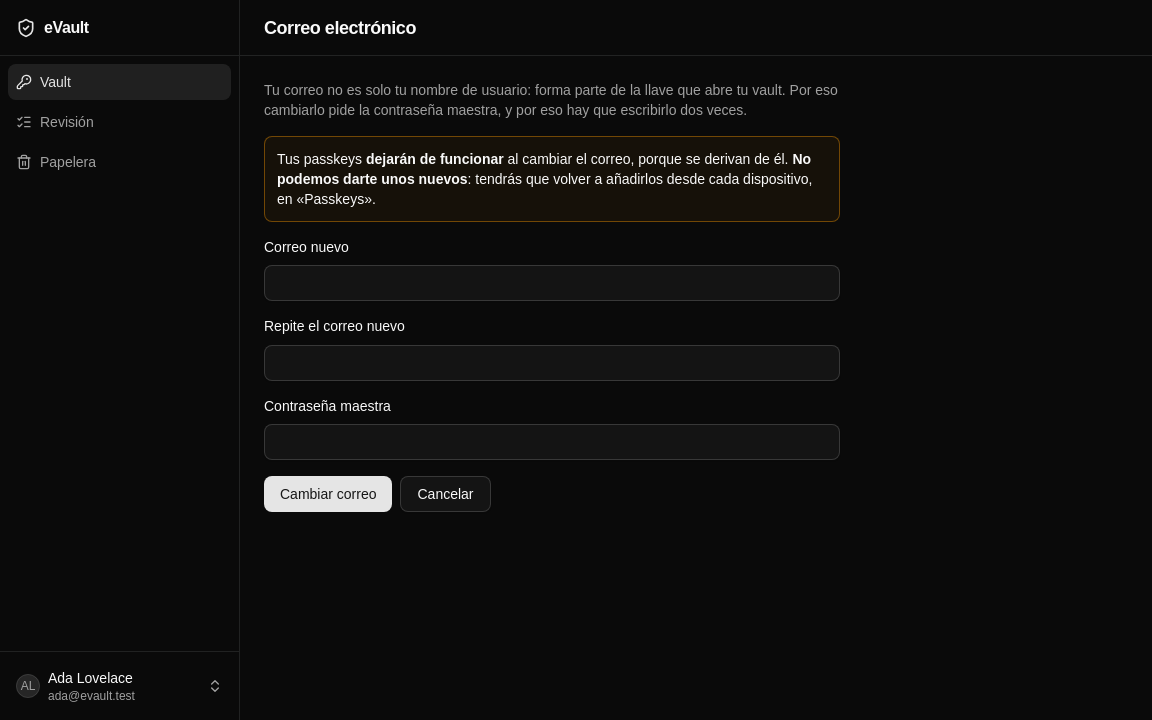
Test: changing the email › demands the master password
The width and height of the screenshot is (1152, 720).
In the field labelled "Correo nuevo": (552, 283) x1=264 y1=265 x2=840 y2=301, type "ada.lovelace@evault.test"
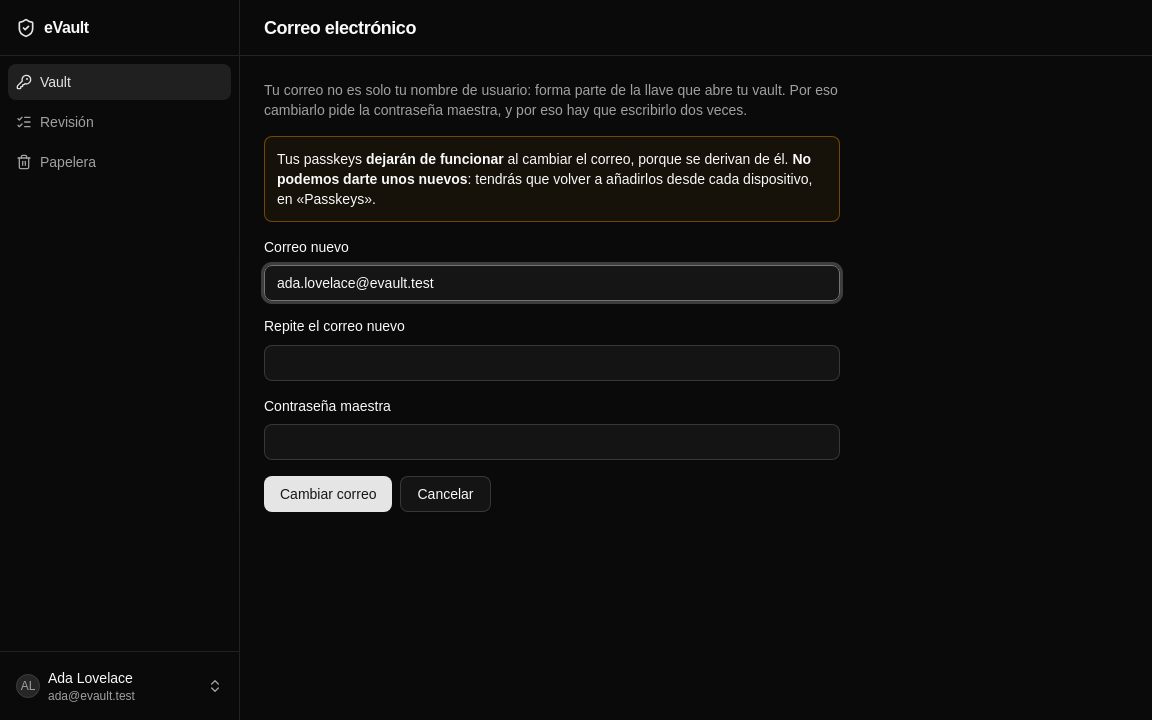
In the field labelled "Repite el correo nuevo": (552, 362) x1=264 y1=344 x2=840 y2=380, type "ada.lovelace@evault.test"
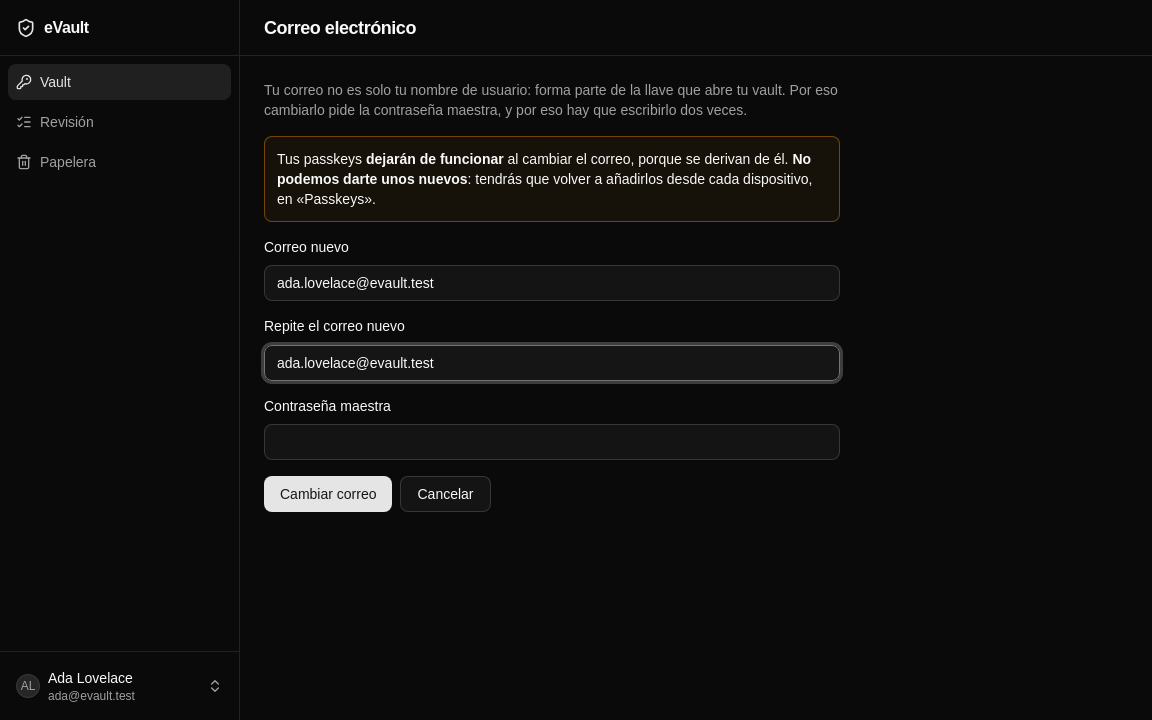
Click the button "Cambiar correo": (328, 494) x1=264 y1=476 x2=392 y2=512
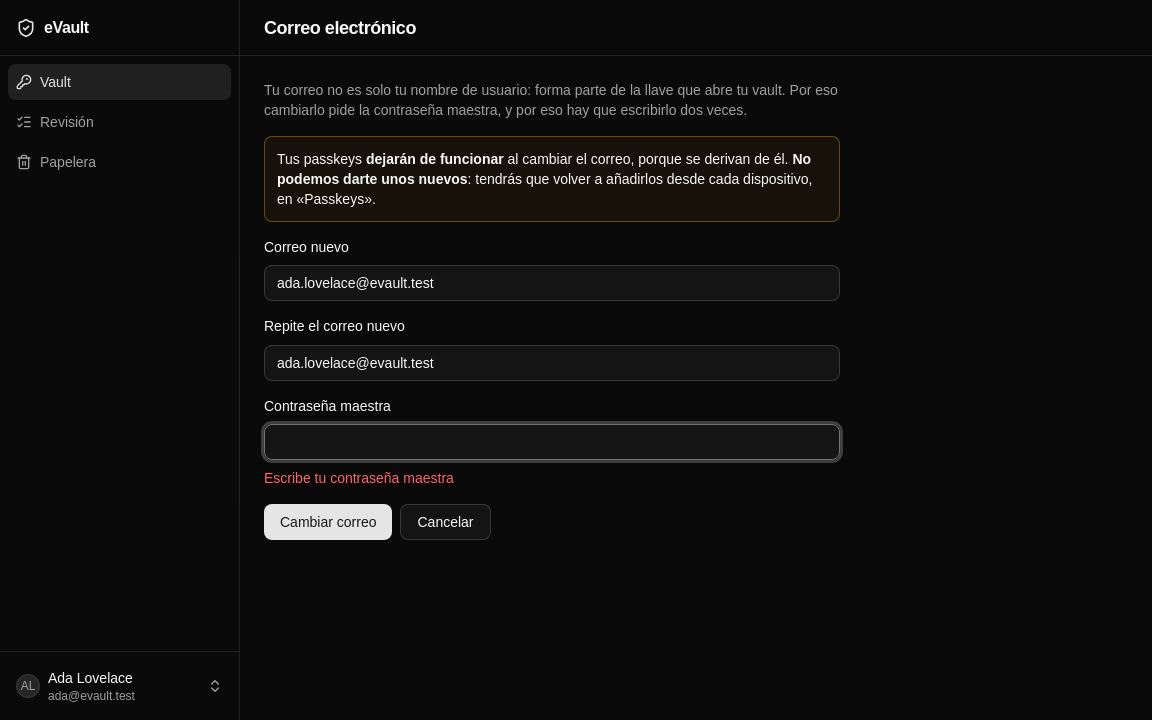
Result: the text "Escribe tu contraseña maestra" is shown at x1=264 y1=470 x2=454 y2=486
